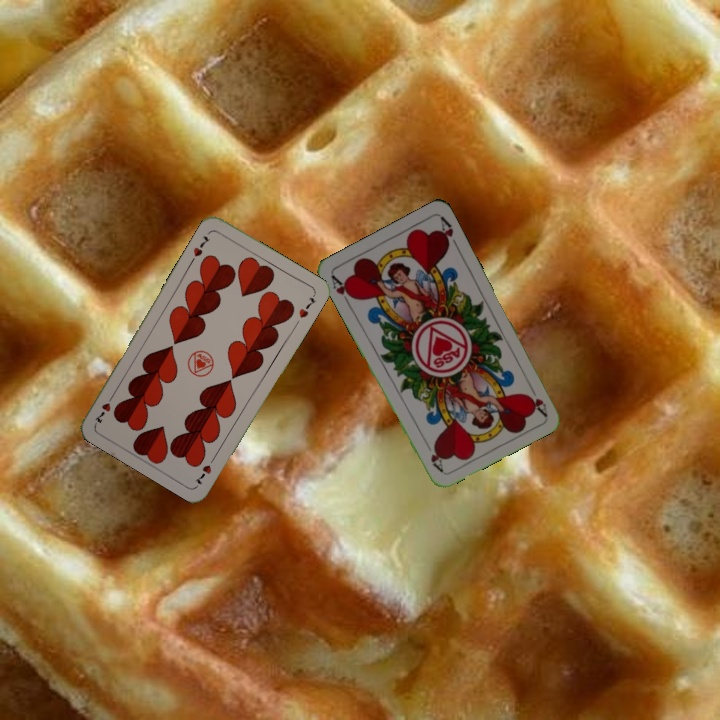H7: (191, 452, 219, 487), (189, 232, 212, 259)
HA: (327, 271, 357, 308), (523, 380, 550, 418)
